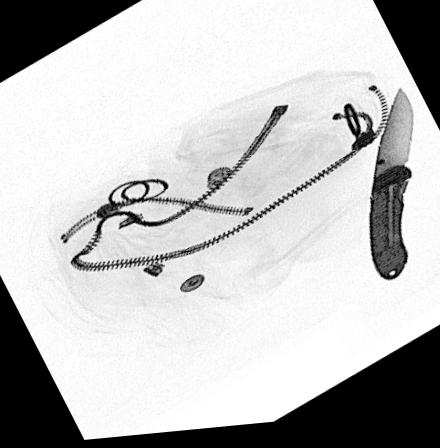Knife: (366, 91, 416, 290)
